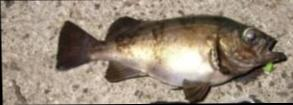fish: (56, 14, 288, 102)
